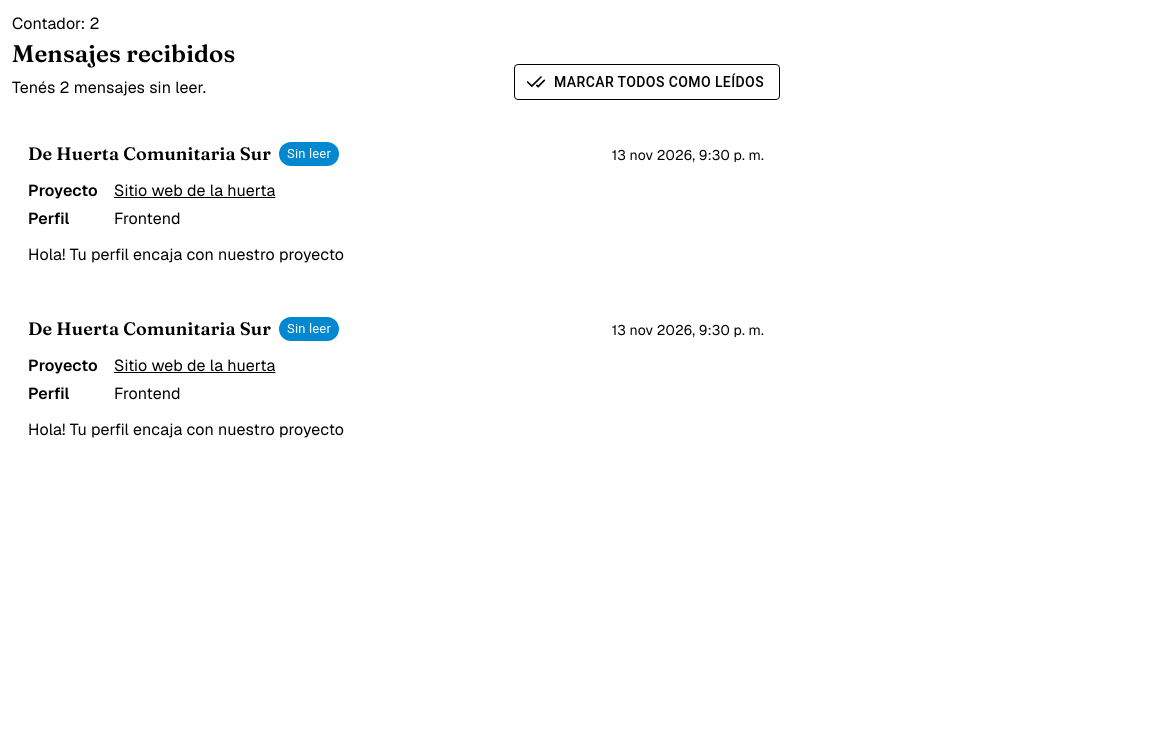
it: PaginaMensajes › el contador de la navbar sigue a la bandeja y vuelve a cero al marcarlos
Expected: the text "Tenés 2 mensajes sin leer." is shown, left=12, top=76, right=235, bottom=100
Expected: the text "Contador: 2" is shown, left=12, top=13, right=100, bottom=34
Click the button "Marcar todos como leídos": click(647, 82) left=514, top=64, right=780, bottom=100
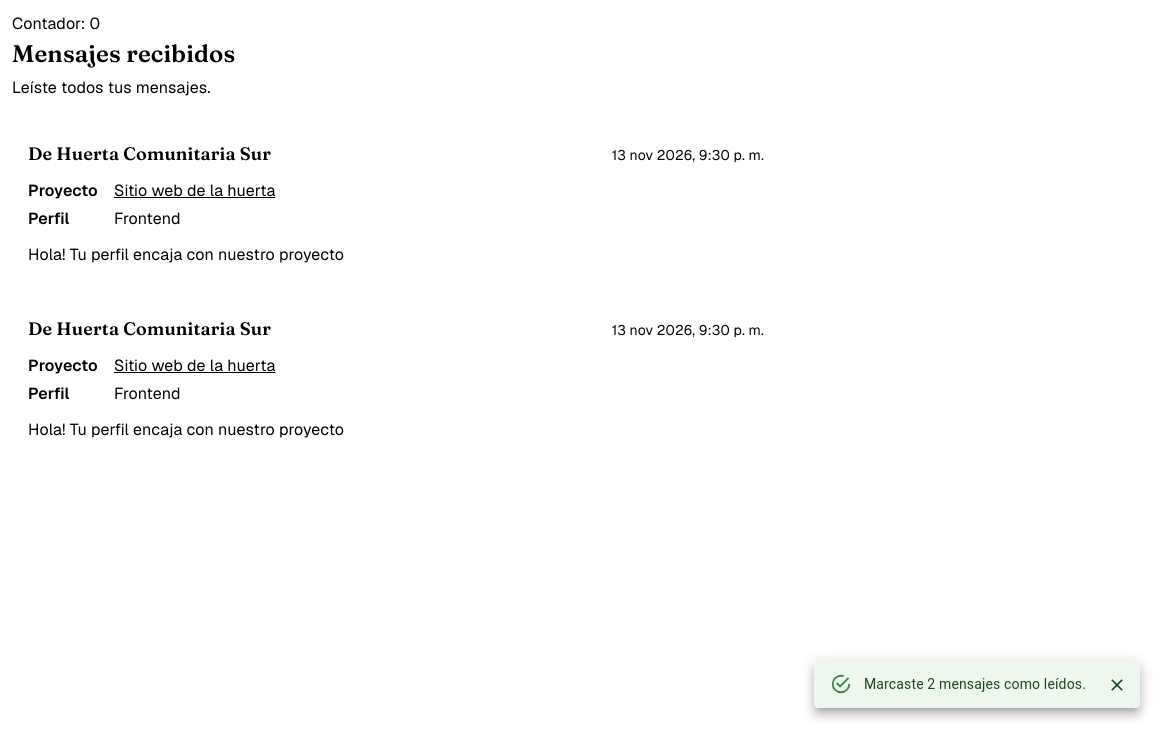
Expected: the text "Contador: 0" is shown, left=12, top=13, right=100, bottom=34
